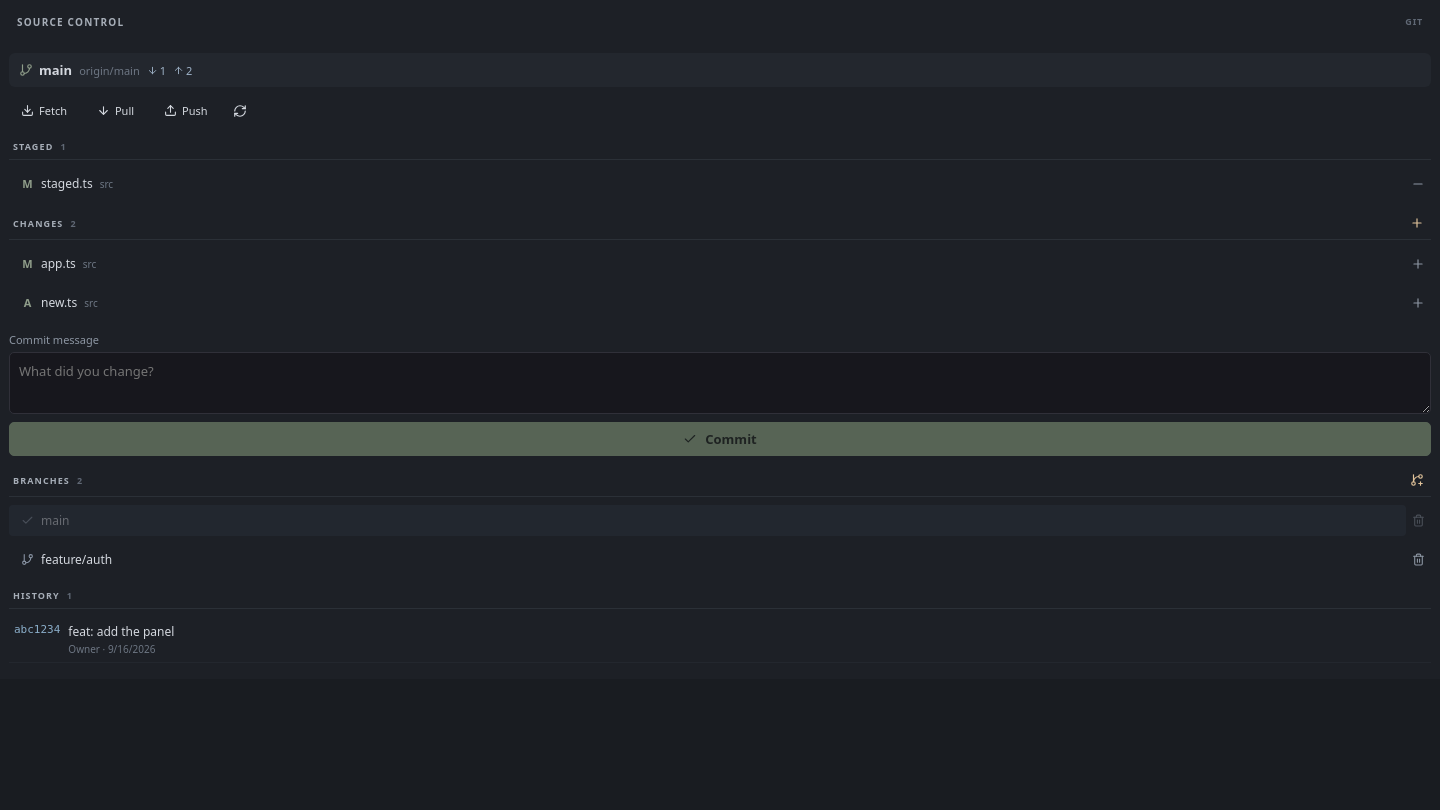
Test: a failed operation is reported without clearing what is on screen
Expected: the text "app.ts" is shown, [41,255,76,272]
Click the button "Pull" at (116, 110), box [85,95,146,126]
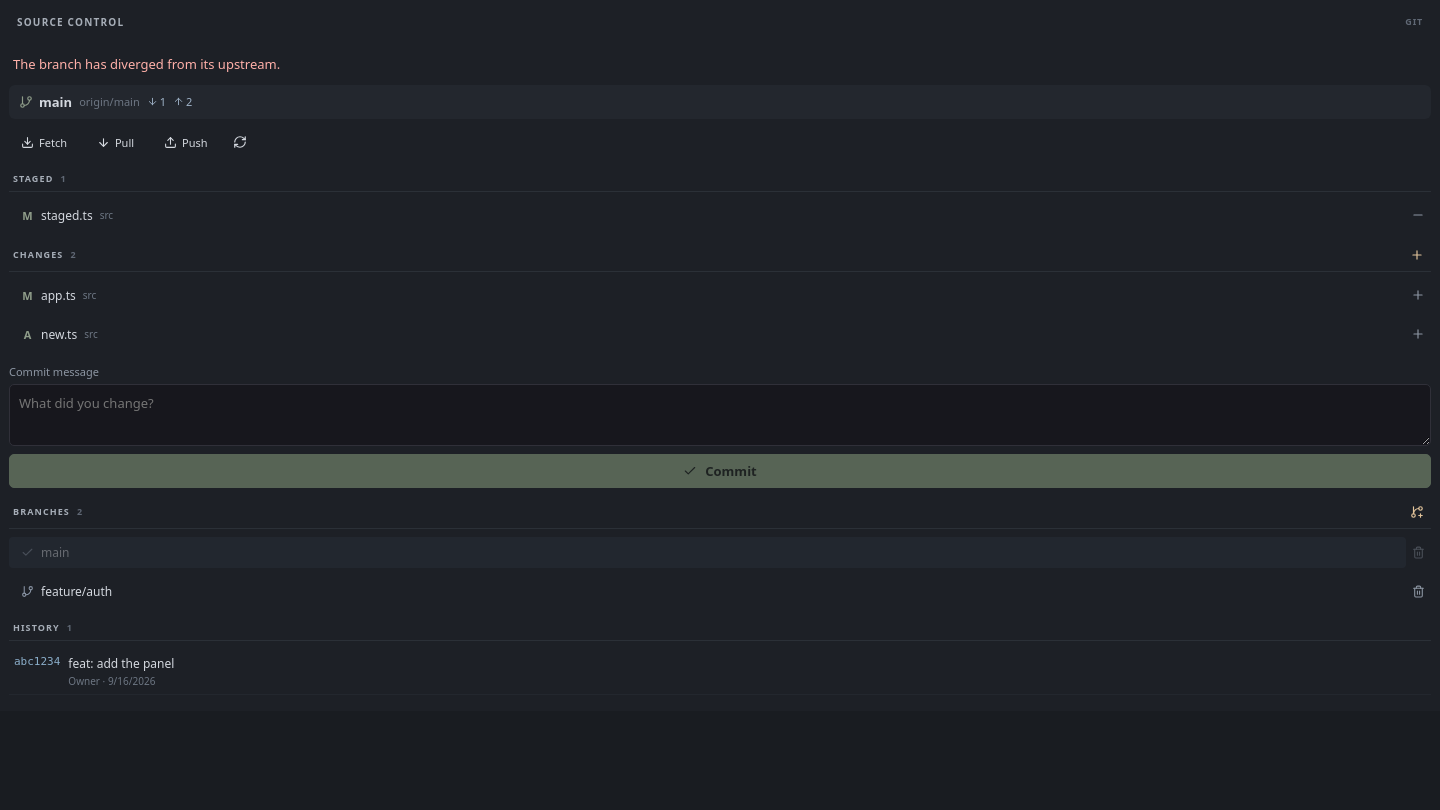
Expected: the text "app.ts" is shown, [41,286,76,304]
Now the message reads "The branch has diverged from its upstream.", box [13,55,280,73]
